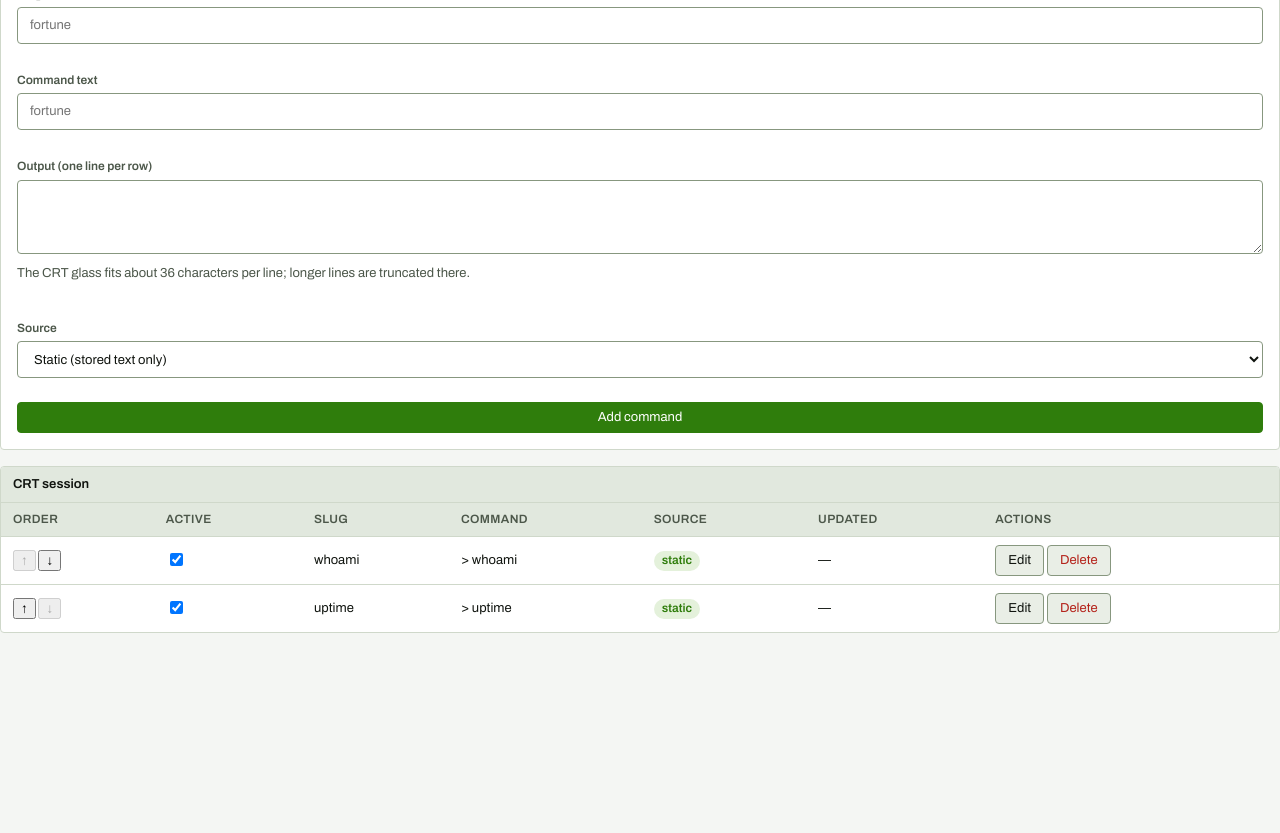
Test: CrtCommands — save note (#0403) › does not show the save note after a failed save
Click the button "Edit" in the row of "> whoami".
click(1020, 561)  # box [995,545,1044,576]
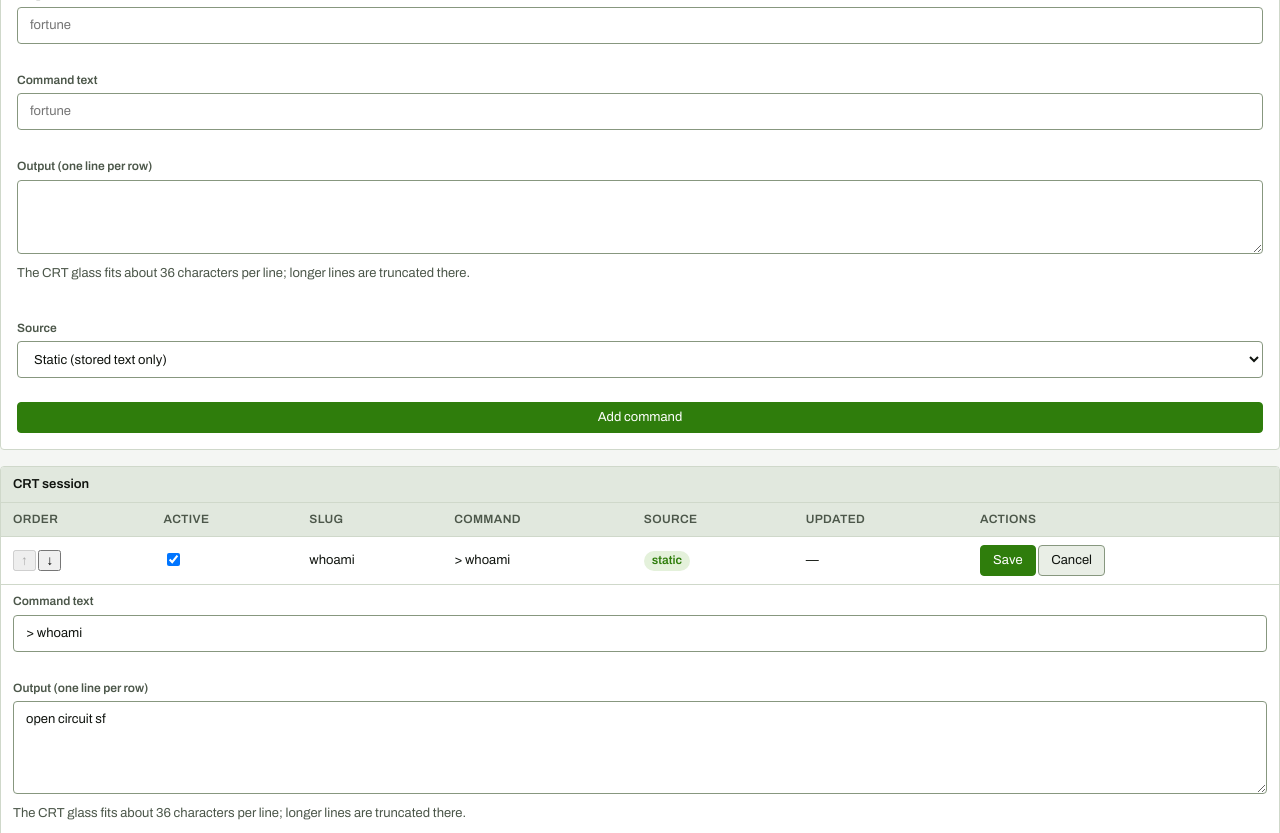
Click the button "Save".
click(1008, 561)  # box [980,545,1036,576]
(page scrolled)
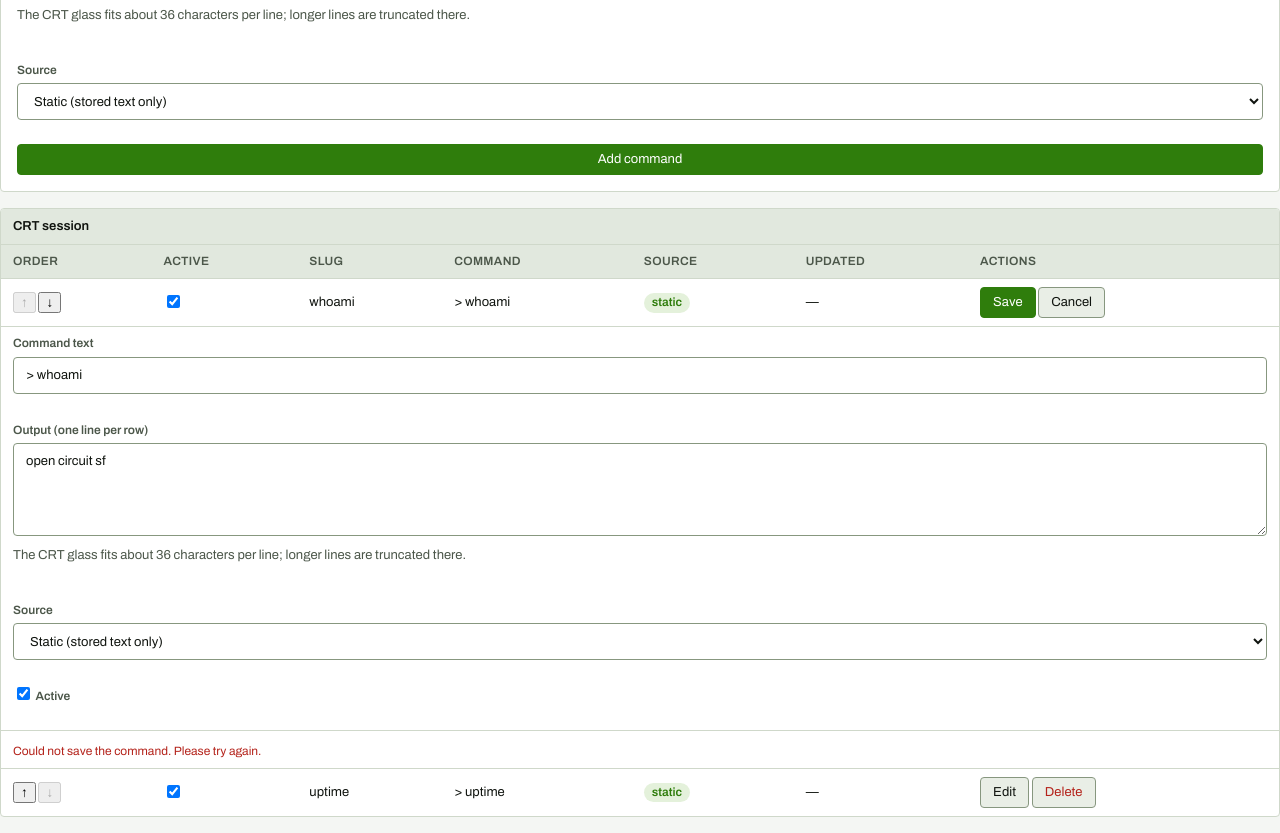
Check: the text "Could not save the command. Please try again." is shown, box [13,744,261,758]
